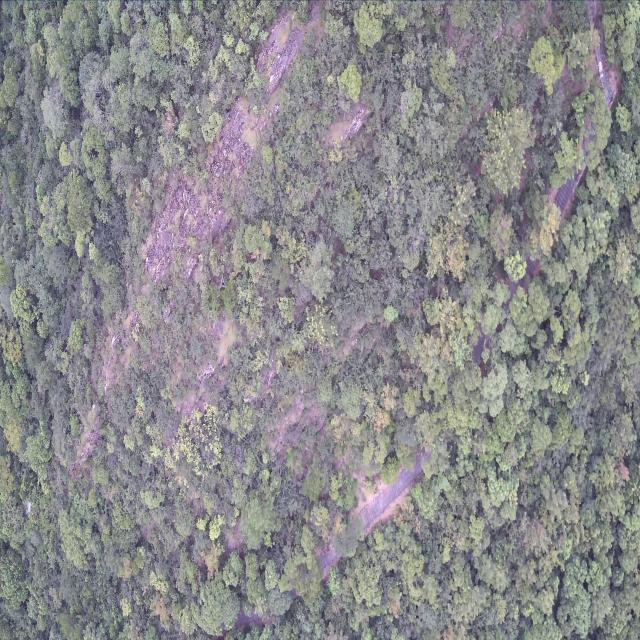drone: (25, 502, 34, 516)
